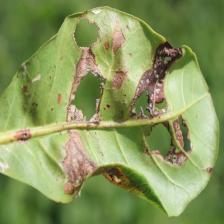leaf miner: (60, 15, 141, 200), (126, 38, 204, 175)
